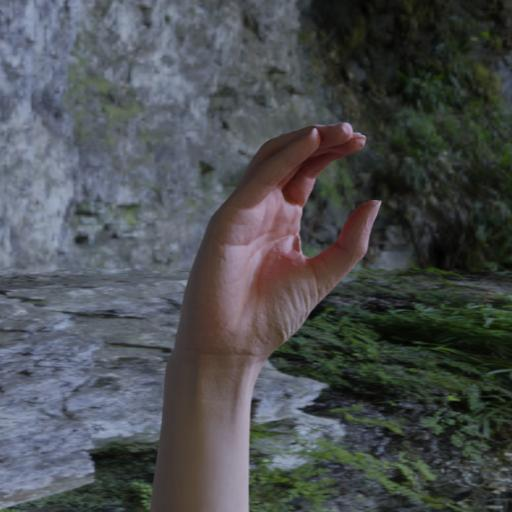C: (161, 103, 420, 389)
